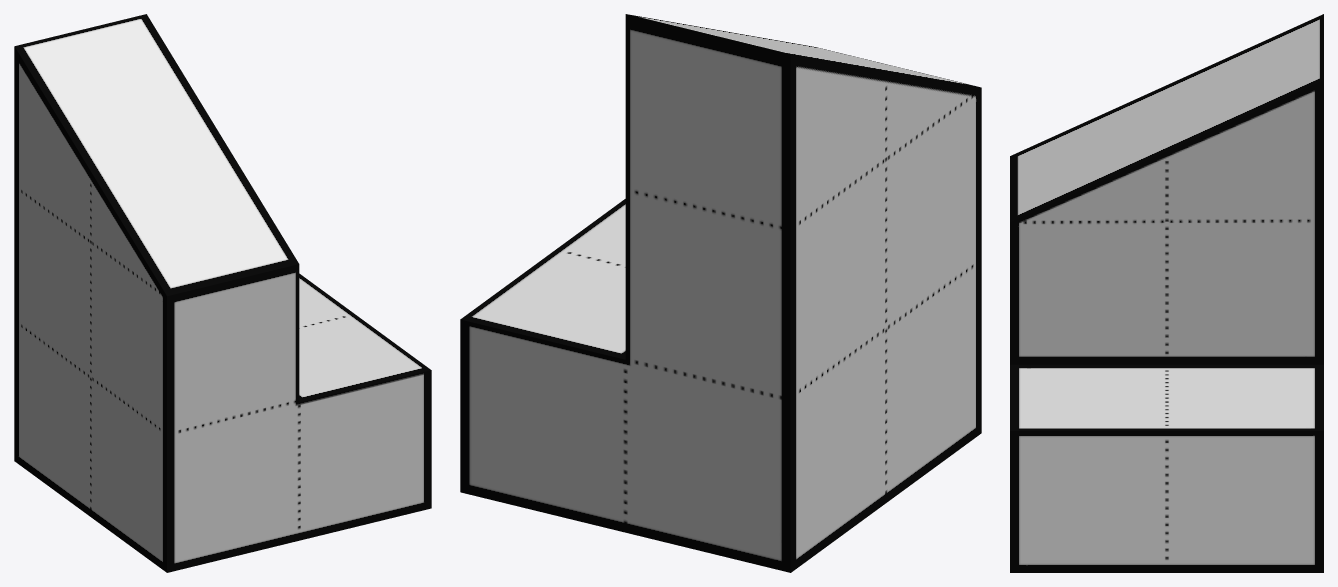
Rendered from Fig2cT.glb.
3 renders of one model, left to right at view 1: azimuth 30°, elevation 25°; view 2: azimuth 150°, elevation 25°; view 3: azimuth 270°, elevation 25°, orthographic. The views are drawn at different scales.
Parts seen in each view (by area): view 1: Model; view 2: Model; view 3: Model.
Part boxes in pixels (box(x1,y1,x2,y2)): Model: box(14, 14, 431, 572); Model: box(460, 14, 981, 572); Model: box(1010, 14, 1323, 572).
Bounding box in the file's own units: 200 × 300 × 200.
8 materials, 8 textured.
